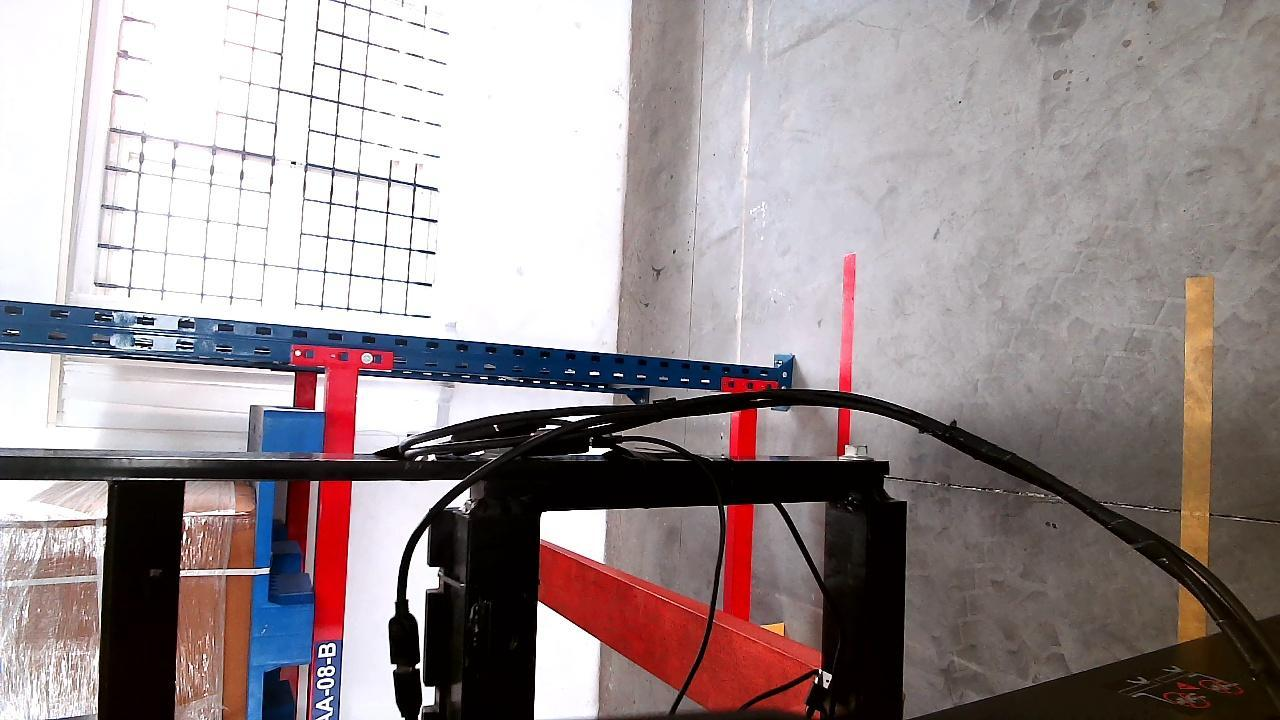red_line: (835, 251, 857, 453)
yellow_line: (1182, 263, 1215, 628)
